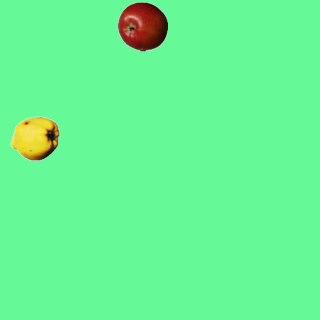Apple Braeburn: (117, 1, 167, 51)
Quince: (9, 113, 59, 163)
